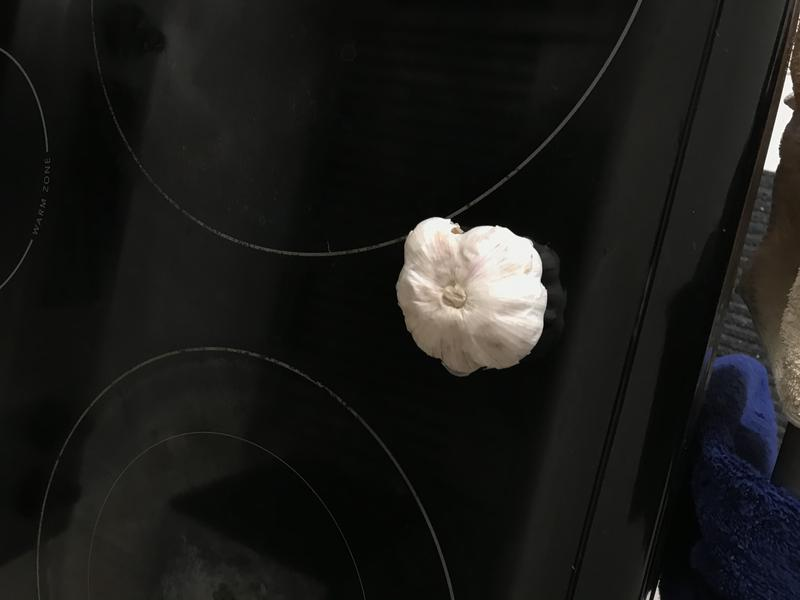garlic: (394, 202, 557, 385)
